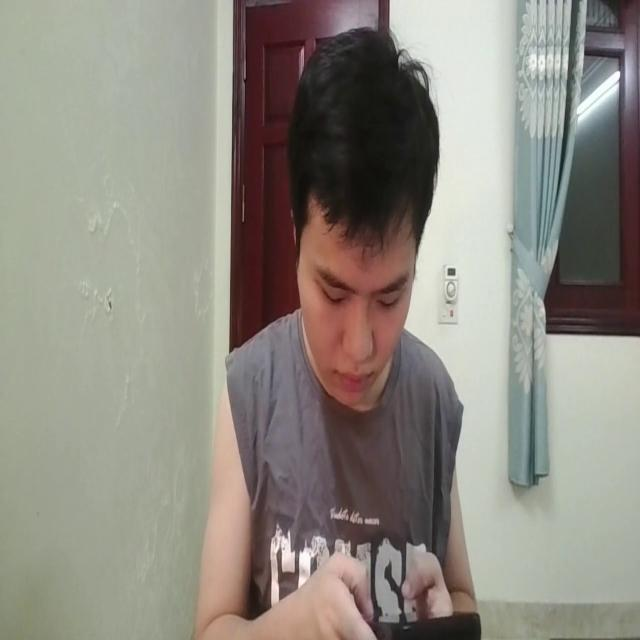phone: (372, 602, 484, 640)
student: (202, 17, 478, 640)
